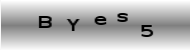5: (139, 23, 154, 38)
B: (37, 15, 53, 29)
Y: (66, 17, 79, 32)
e: (93, 15, 107, 26)
s: (116, 12, 129, 24)
